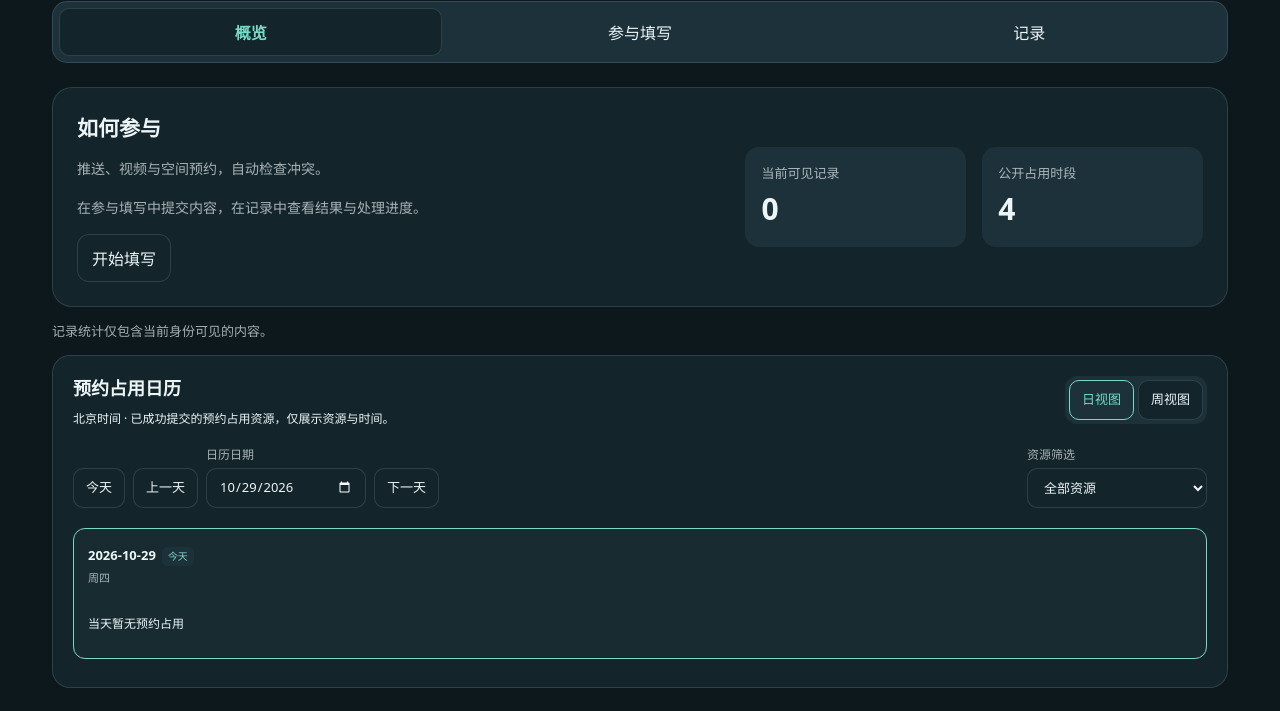
it: shows shared occupied times grouped by date and resource in day/week views even with no private entries
The image size is (1280, 711).
(page scrolled)
Type "2026-10-12" into the date field labelled "日历日期" at [286, 488], box [206,468,366,508]
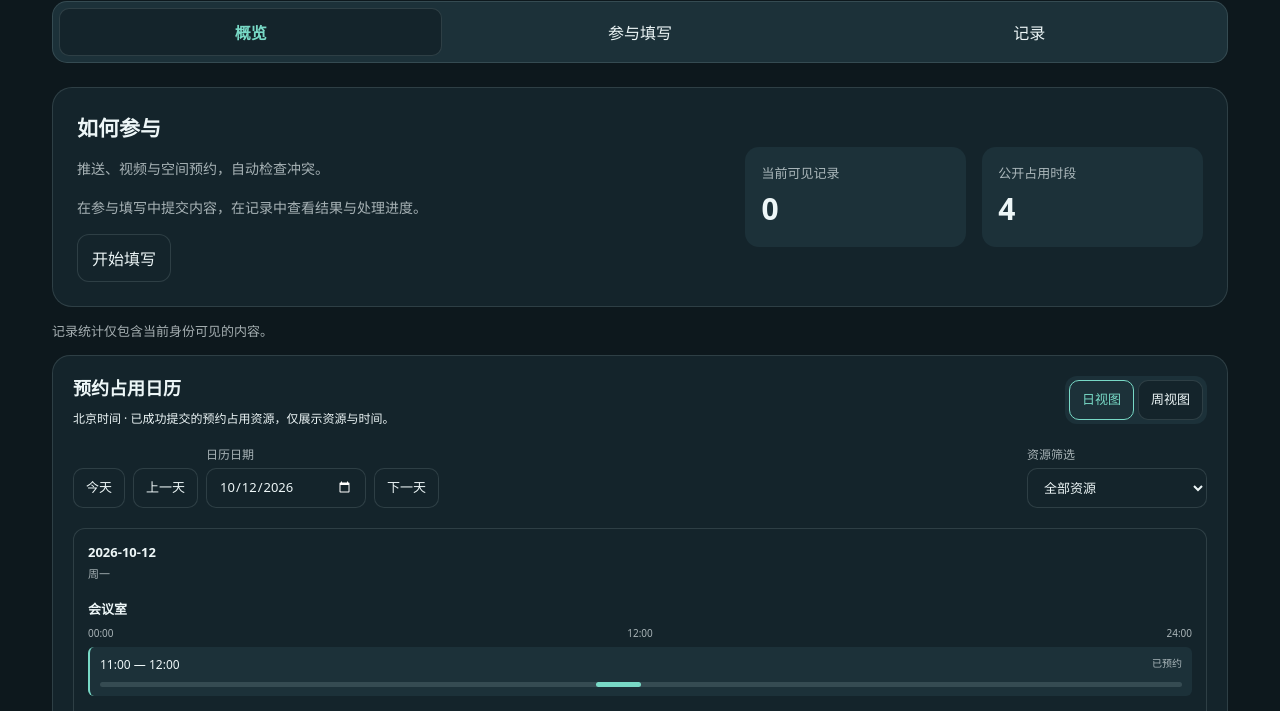
Expected: the text "13:00 — 14:00" is not shown
Result: the text "11:00 — 12:00" is shown at [100,656,180,674]
Click the button "周视图" at [1170, 400], box [1138,380,1203,420]
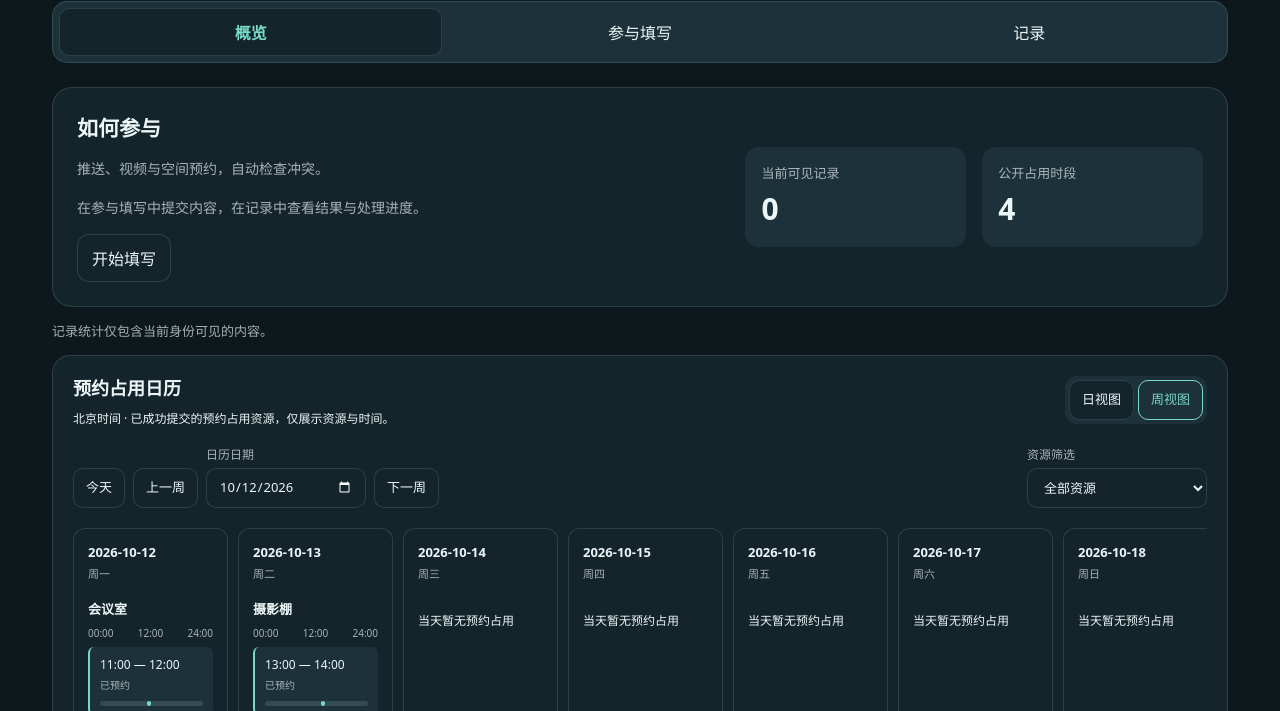
Result: the text "13:00 — 14:00" is shown at [265,656,345,674]
Click the button "下一周" at [406, 488], box [374,468,439,508]
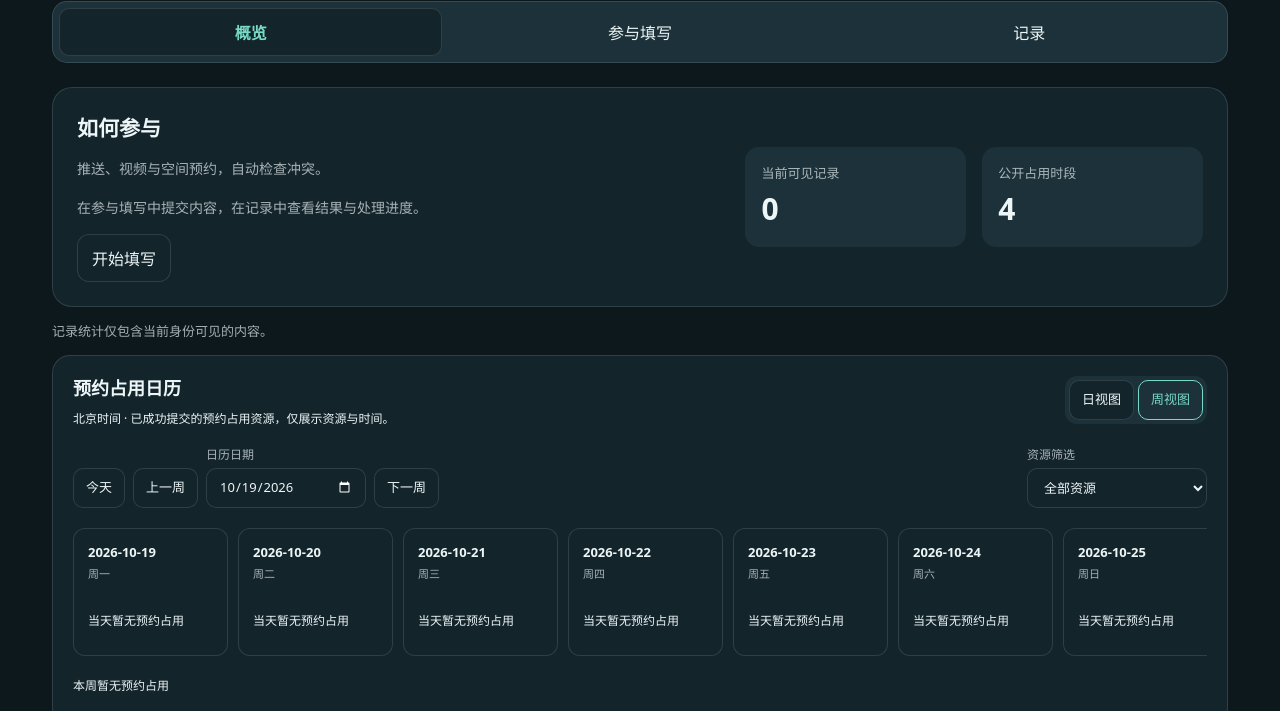
Result: the text "本周暂无预约占用" is shown at [73,677,169,694]
